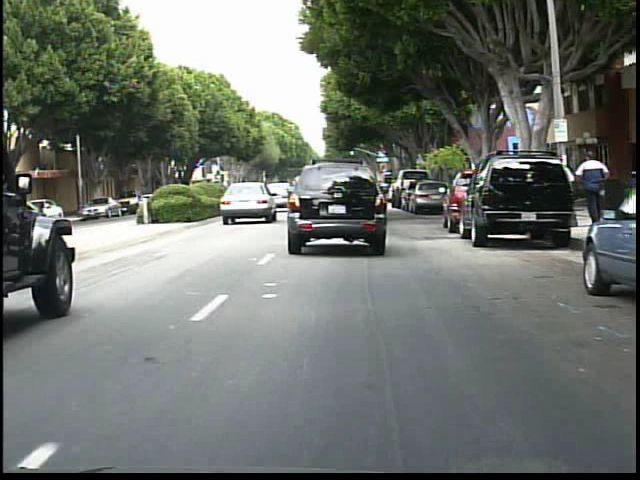person: (576, 150, 611, 217), (546, 154, 575, 226)
